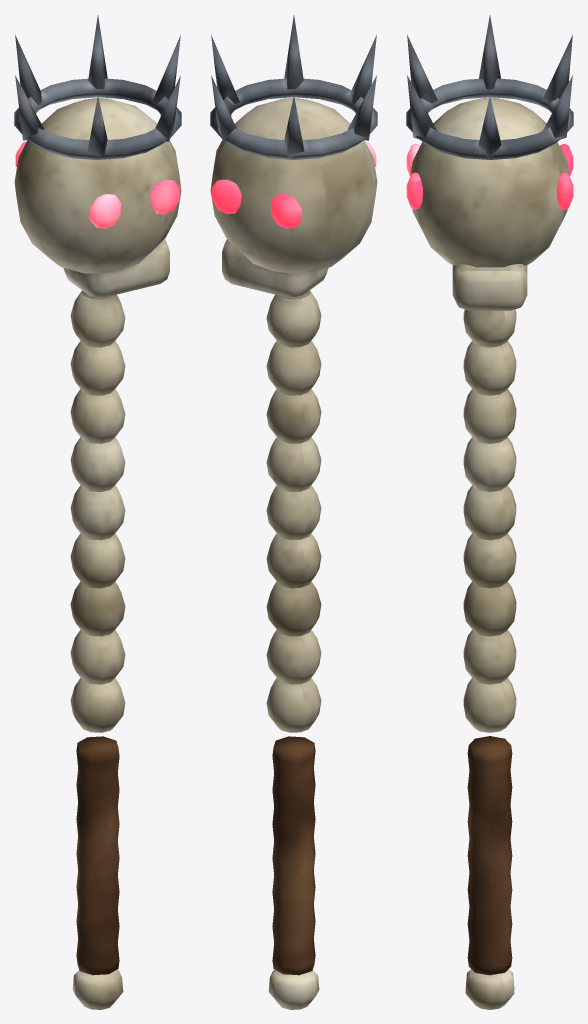
Rendered from OssuaryScepter.fbx.
3 views of the same model, side by side, from view 1: azimuth 30°, elevation 25°; view 2: azimuth 150°, elevation 25°; view 3: azimuth 270°, elevation 25° (orthographic).
Visible parts, largest first — view 1: OssuaryScepter; view 2: OssuaryScepter; view 3: OssuaryScepter.
Boxes of the visible parts, <box> form: OssuaryScepter: <box>14,15,181,1009</box>; OssuaryScepter: <box>210,15,377,1009</box>; OssuaryScepter: <box>406,15,573,1009</box>.
Size of the model in its own units: 0.1802 by 0.987 by 0.1576.
